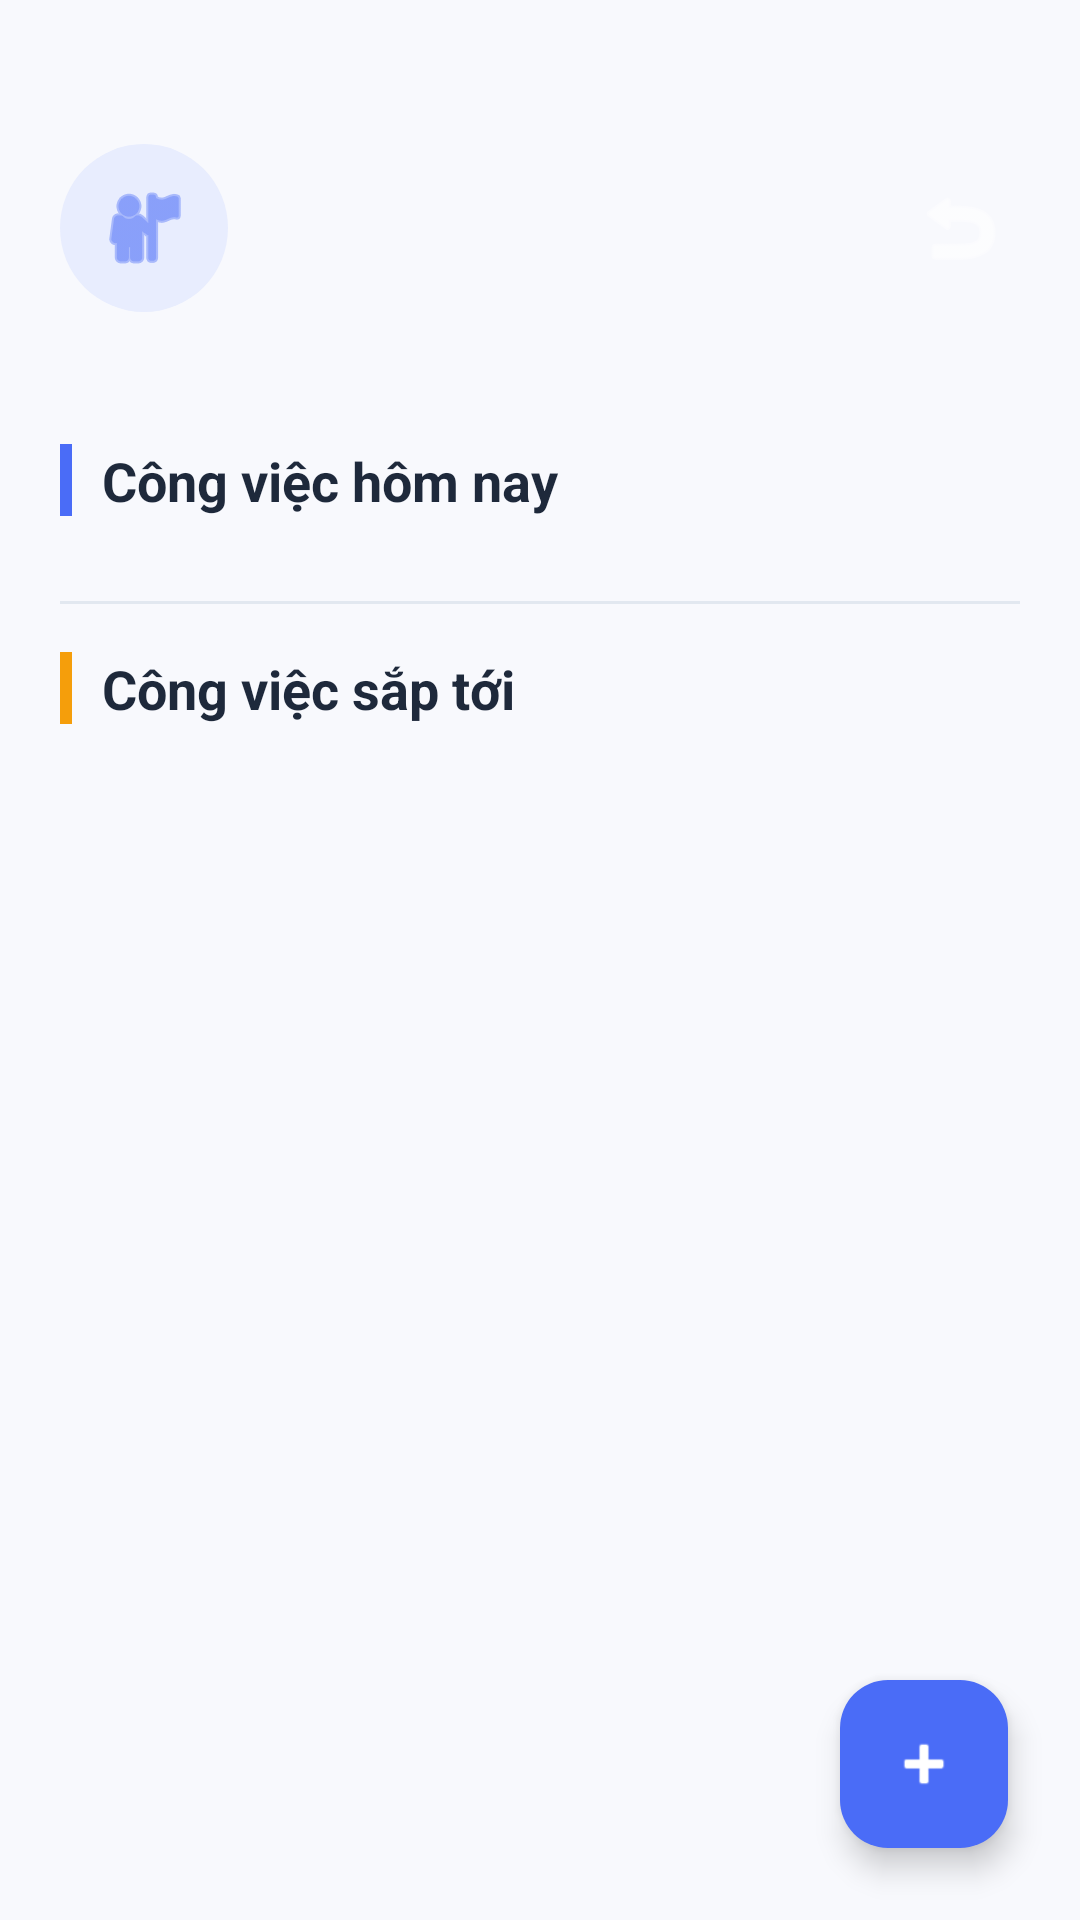

Icons on this 1080 x 1920 Android screen, each with its box as (x1, y1, x2, y2):
Avatar: (109, 192, 181, 264)
Thêm công việc: (840, 1680, 1008, 1848)
